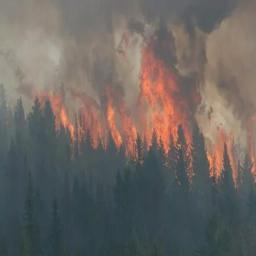Heavy smoke: (3, 0, 256, 106)
Medium fire: (7, 38, 256, 204)
